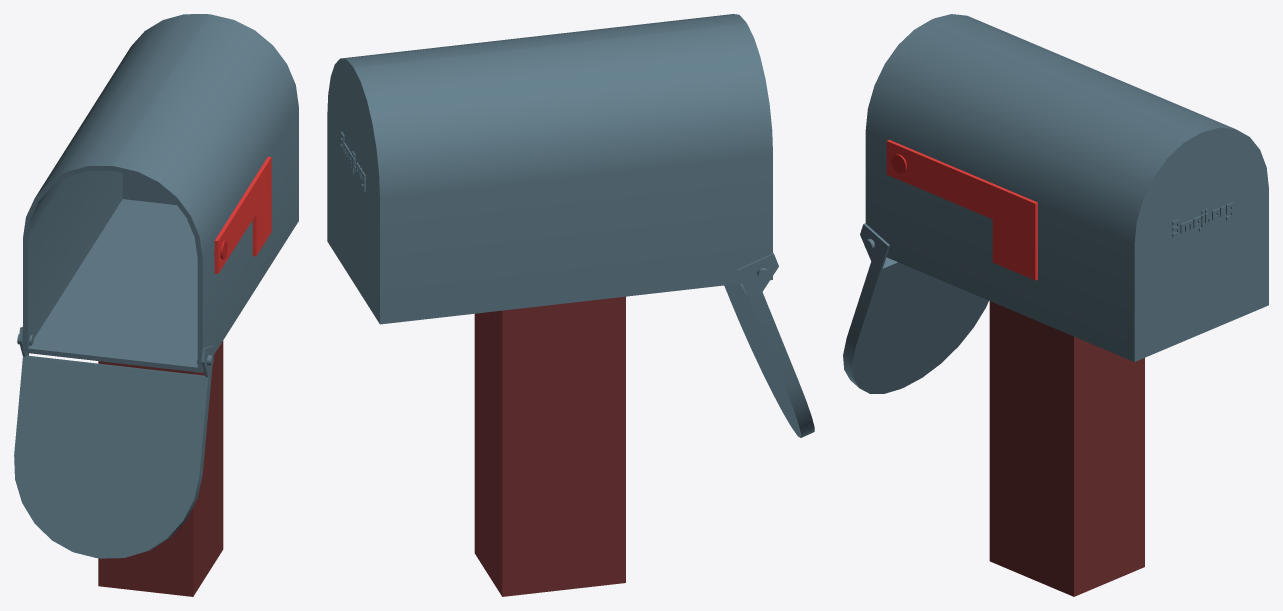
The model's file is open_mailbox_with_lowered_flag.glb.
The picture shows the model from 3 angles, left to right: view 1: azimuth 30°, elevation 25°; view 2: azimuth 150°, elevation 25°; view 3: azimuth 270°, elevation 25°; orthographic projection. The views are drawn at different scales.
Visible parts, largest first — view 1: Cube.973; view 2: Cube.973; view 3: Cube.973.
Part boxes in pixels (left/top/right/bottom): Cube.973: left=14, top=14, right=298, bottom=596; Cube.973: left=327, top=14, right=814, bottom=596; Cube.973: left=843, top=14, right=1268, bottom=596.
Size of the model in its own units: 1.51 by 1.91 by 1.51.
1 material, 1 textured.
